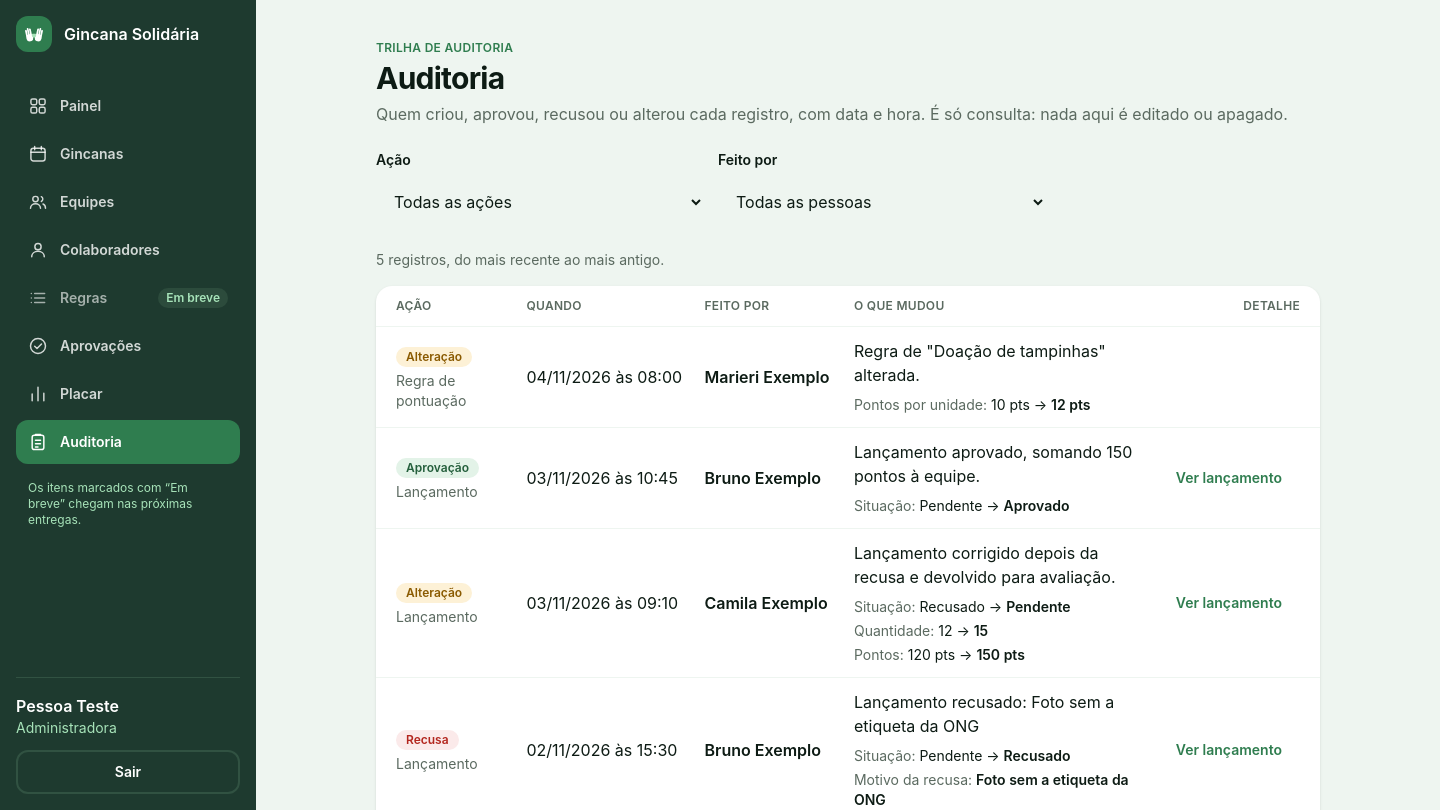
Test: Painel de auditoria da administradora (US09) › filtros › filtra por ação e refaz a consulta com a ação escolhida
Select "Aprovação" in the dropdown labelled "Ação" at (541, 202), box [376, 178, 706, 226]
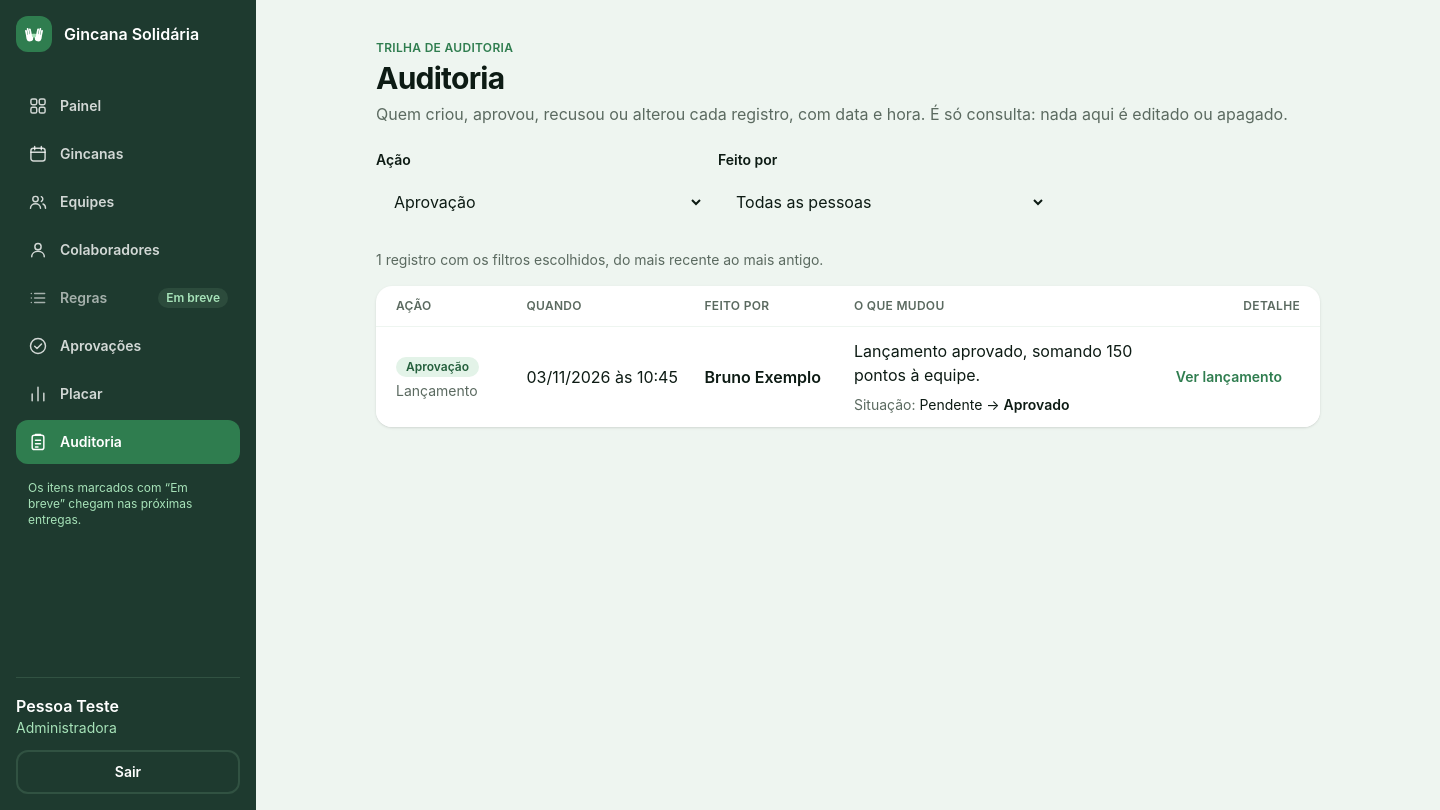
Expected: the table named "Registros de auditoria" shows "Situação: Pendente → Aprovado", [376, 286, 1320, 426]
Expected: the heading "1 registro com os filtros escolhidos" is shown, [376, 250, 823, 268]
